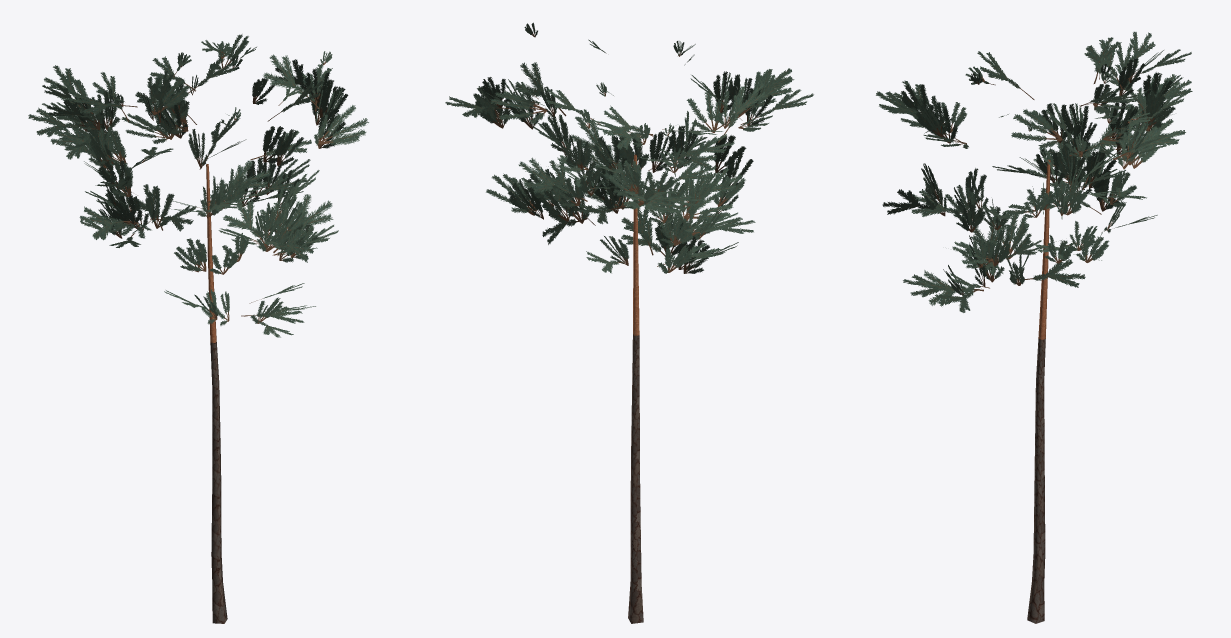
File: pine_a_LOD2.fbx
The picture shows the model from 3 angles, left to right: view 1: azimuth 30°, elevation 25°; view 2: azimuth 150°, elevation 25°; view 3: azimuth 270°, elevation 25°; orthographic projection. The views are drawn at different scales.
Parts seen in each view (by area): view 1: Pine_A_LOD2_Foliage, Pine_A_LOD2_Bark; view 2: Pine_A_LOD2_Foliage, Pine_A_LOD2_Bark; view 3: Pine_A_LOD2_Foliage, Pine_A_LOD2_Bark.
Boxes of the visible parts, left/top/right/bottom form: Pine_A_LOD2_Foliage: left=28, top=34, right=368, bottom=337; Pine_A_LOD2_Bark: left=206, top=164, right=227, bottom=623; Pine_A_LOD2_Foliage: left=445, top=22, right=813, bottom=273; Pine_A_LOD2_Bark: left=628, top=154, right=643, bottom=623; Pine_A_LOD2_Foliage: left=876, top=31, right=1192, bottom=312; Pine_A_LOD2_Bark: left=1027, top=159, right=1050, bottom=623.
Bounding box in the file's own units: 12.19 × 20.96 × 12.21.
Materials: 2 (2 with a texture image).
